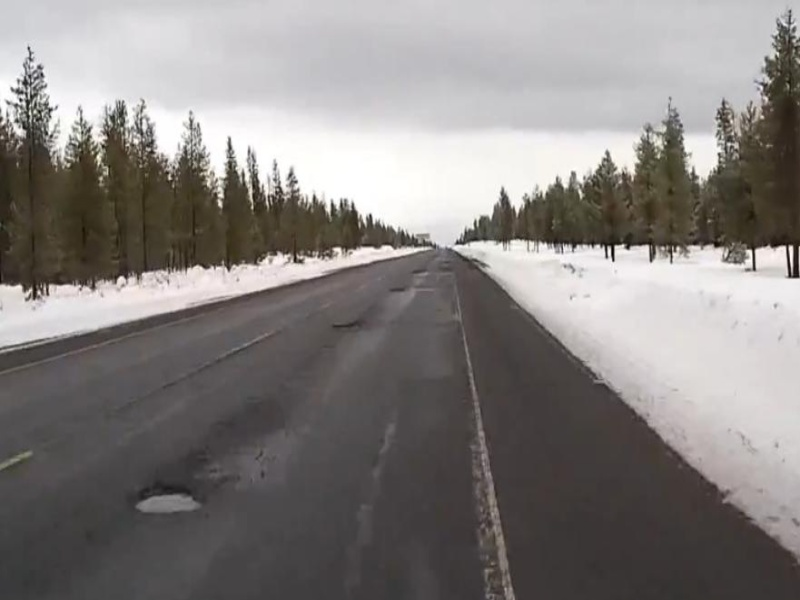pothole: (127, 485, 213, 520)
